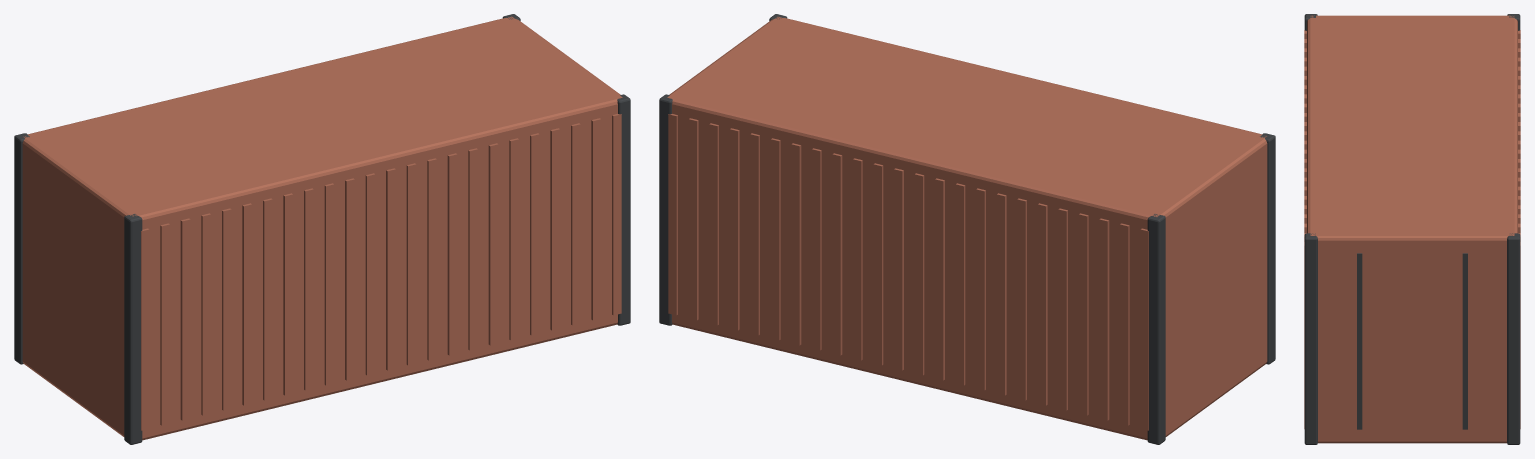
Rendered from container.glb.
The picture shows the model from 3 angles, left to right: view 1: azimuth 30°, elevation 25°; view 2: azimuth 150°, elevation 25°; view 3: azimuth 270°, elevation 25°; orthographic projection. The views are drawn at different scales.
Visible parts, largest first — view 1: container; view 2: container; view 3: container.
Boxes of the visible parts, left/top/right/bottom form: container: left=14, top=14, right=630, bottom=444; container: left=659, top=14, right=1275, bottom=444; container: left=1304, top=14, right=1520, bottom=444.
Size of the model in its own units: 6.05 by 2.6 by 2.46.
